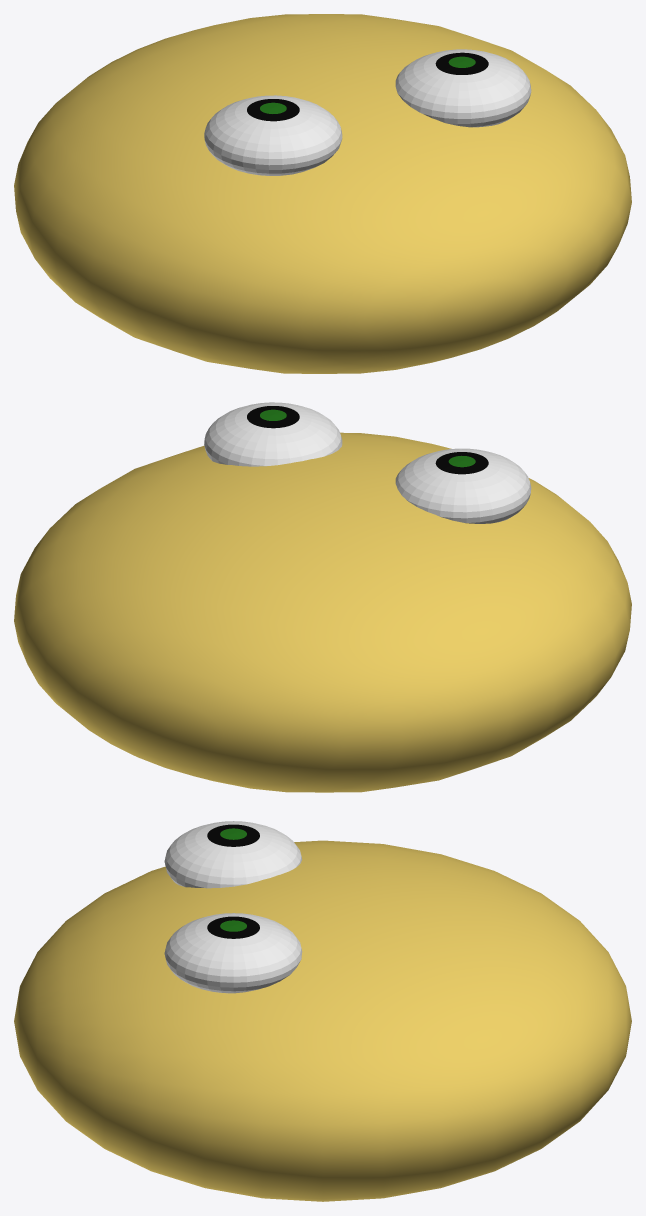
File: yilanbass.fbx
3 views of the same model, one above another, from view 1: azimuth 30°, elevation 25°; view 2: azimuth 150°, elevation 25°; view 3: azimuth 270°, elevation 25° (orthographic).
Parts seen in each view (by area): view 1: Sphere.001; view 2: Sphere.001; view 3: Sphere.001.
Part boxes in pixels (<box>): Sphere.001: <box>14,14,631,373</box>; Sphere.001: <box>14,402,631,792</box>; Sphere.001: <box>14,821,631,1201</box>.
Bounding box in the file's own units: 200 × 95.16 × 200.
